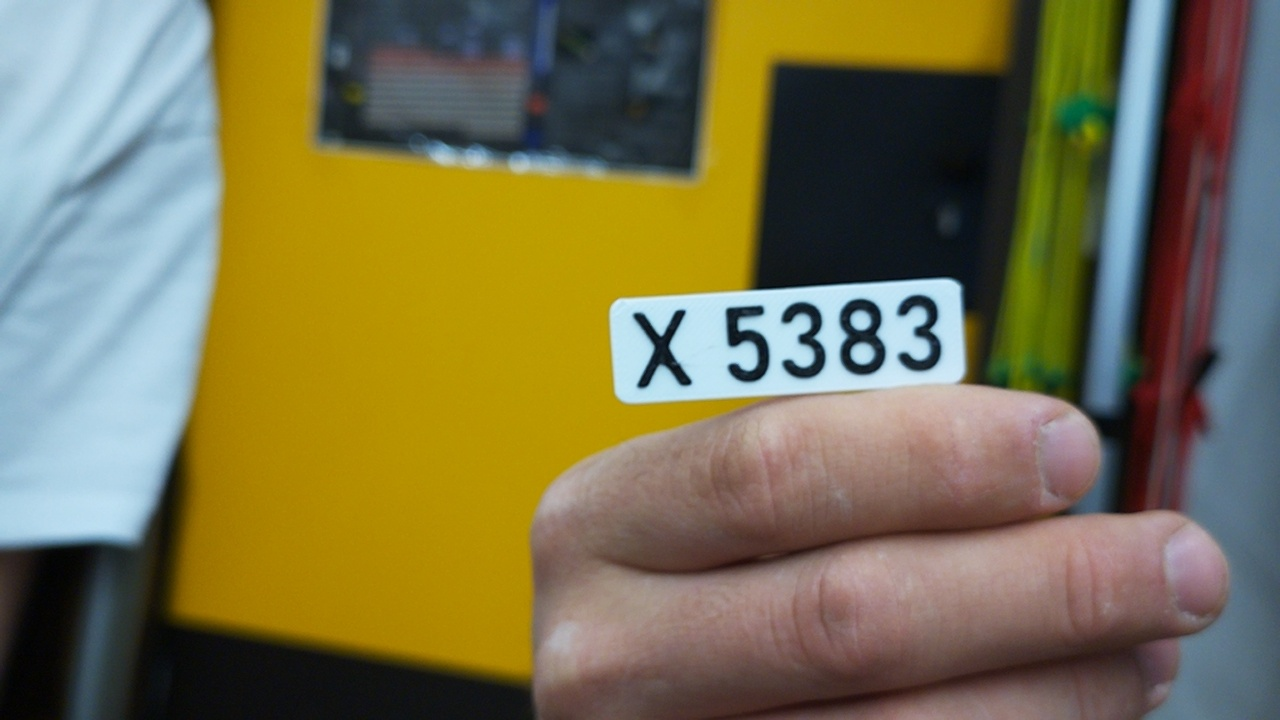license_plate: (606, 275, 969, 406)
